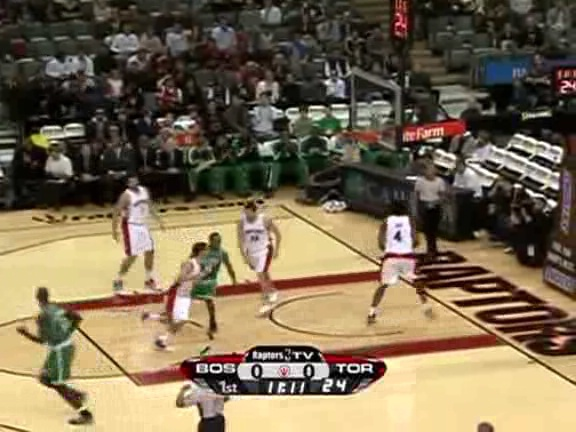person: (191, 231, 225, 312), (190, 231, 224, 312), (192, 231, 226, 312), (191, 230, 225, 311), (191, 232, 225, 313)
target_negative: (102, 356, 573, 416), (6, 381, 363, 420), (417, 47, 449, 390), (496, 306, 544, 360), (226, 346, 438, 352), (477, 389, 541, 407)
